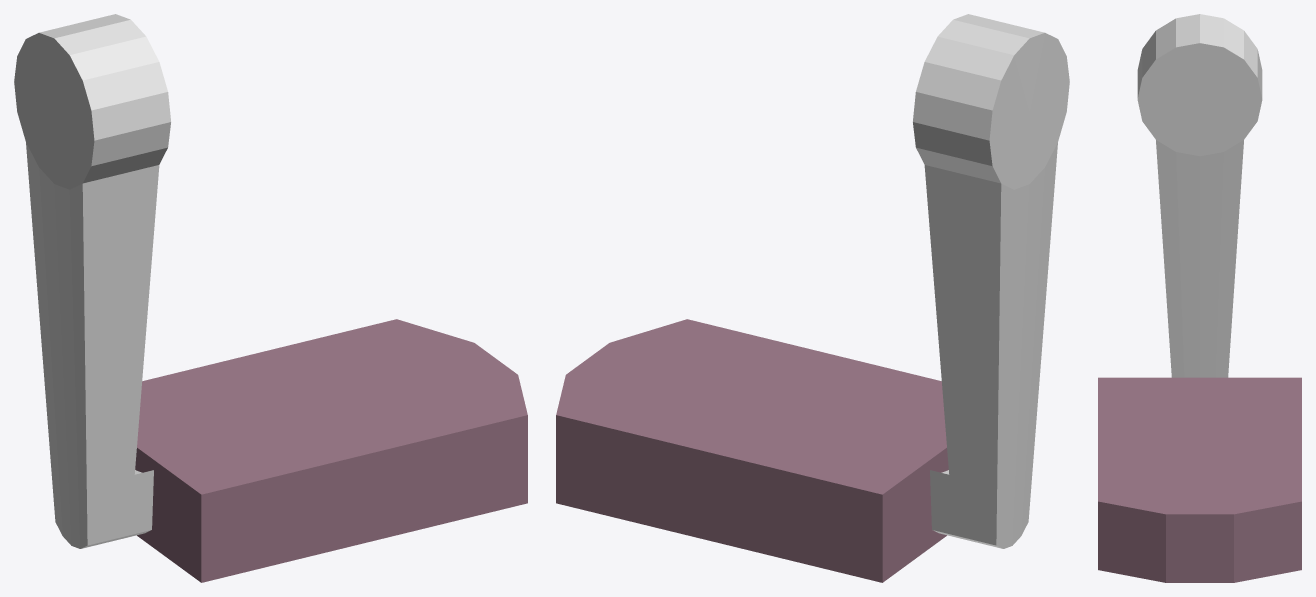
File: dev-pedal.fbx
3 views of the same model, side by side, from view 1: azimuth 30°, elevation 25°; view 2: azimuth 150°, elevation 25°; view 3: azimuth 270°, elevation 25° (orthographic). The views are drawn at different scales.
Parts seen in each view (by area): view 1: Pedals; view 2: Pedals; view 3: Pedals.
Boxes of the visible parts, x1=… form: Pedals: x1=14, y1=14, x2=527, y2=582; Pedals: x1=556, y1=14, x2=1069, y2=582; Pedals: x1=1098, y1=14, x2=1301, y2=582.
Bounding box in the file's own units: 6.57 × 7.34 × 3.38.
